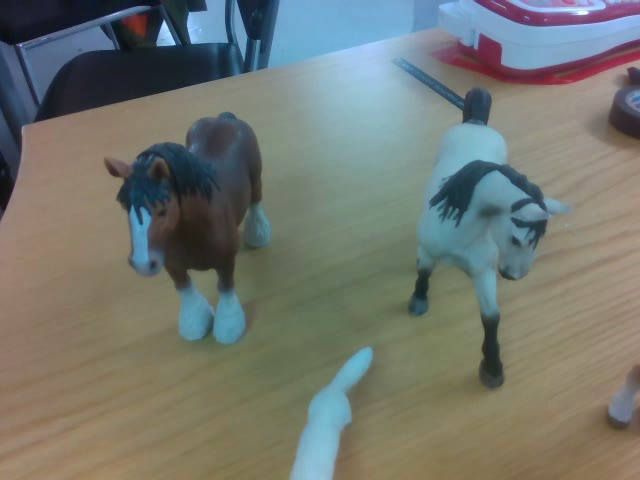toy: (407, 88, 570, 388), (102, 111, 271, 344)
